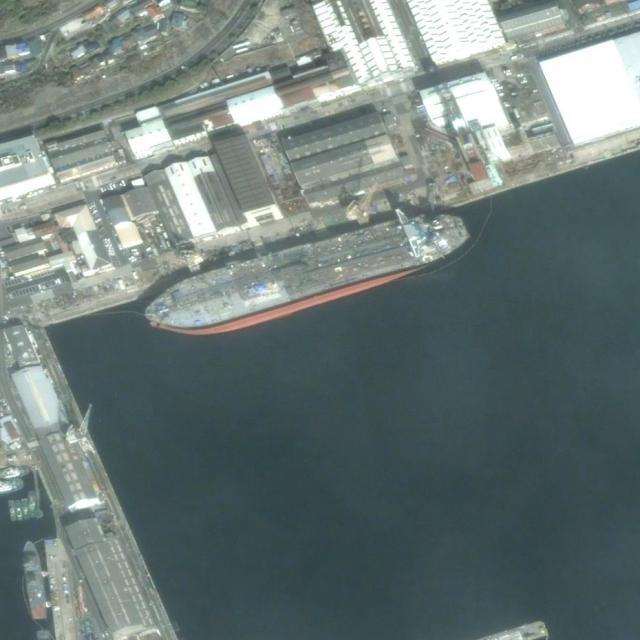Oil Tanker: (131, 199, 480, 352)
